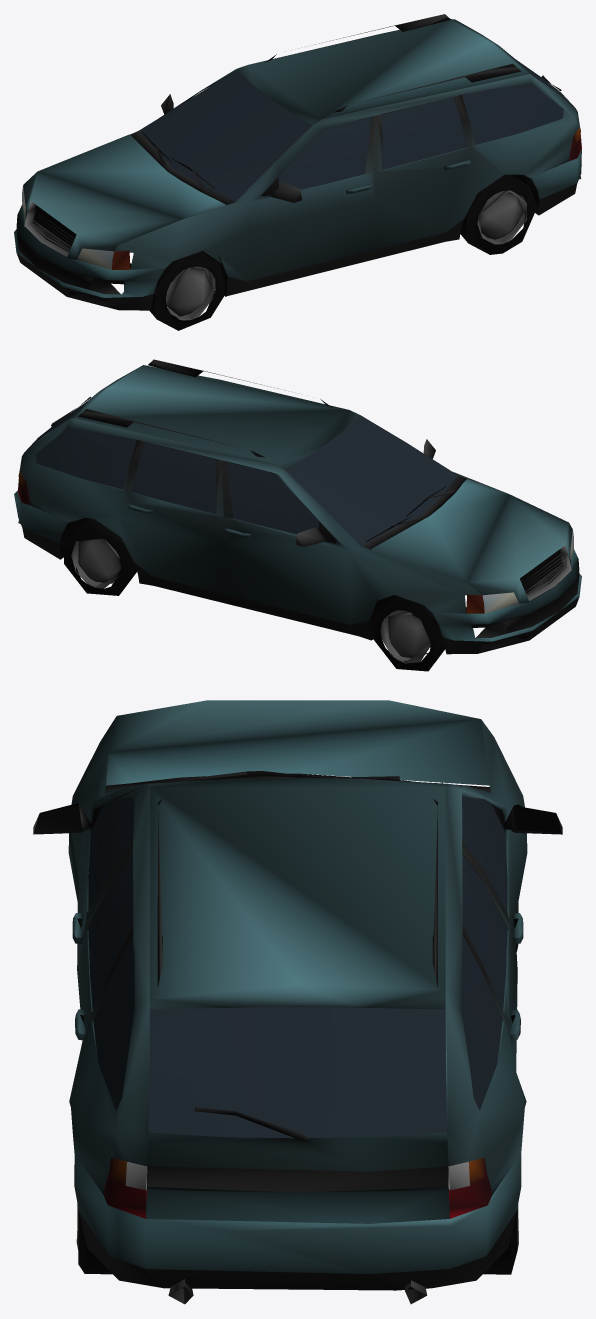
The model's file is wagon.glb.
3 views of the same model, one above another, from view 1: azimuth 30°, elevation 25°; view 2: azimuth 150°, elevation 25°; view 3: azimuth 270°, elevation 25° (orthographic). The views are drawn at different scales.
Visible parts, largest first — view 1: wagon; view 2: wagon; view 3: wagon.
Boxes of the visible parts, left/top/right/bottom form: wagon: left=14, top=14, right=581, bottom=330; wagon: left=14, top=359, right=581, bottom=671; wagon: left=33, top=700, right=562, bottom=1304.
Bounding box in the file's own units: 4.58 × 1.41 × 2.05.
